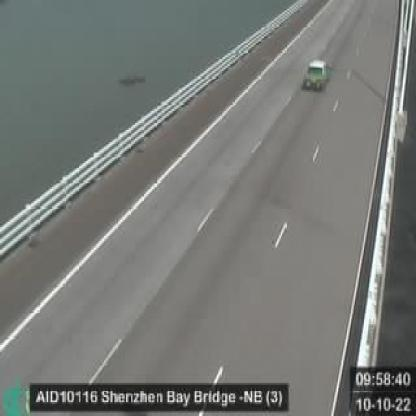Car: (302, 58, 330, 90)
